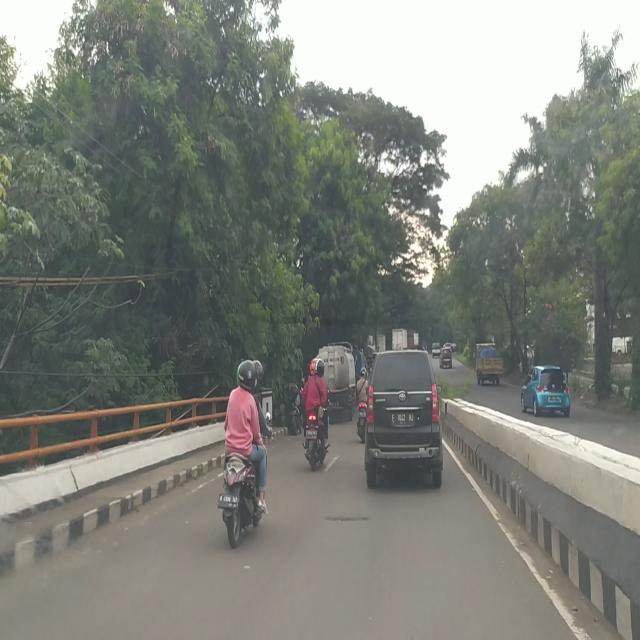Sewer Cover: (322, 516, 371, 522)
